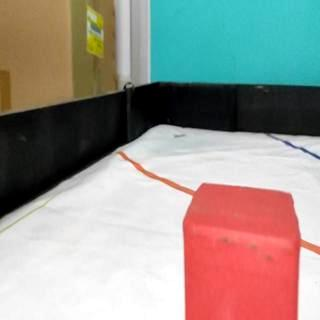redbox: (183, 181, 299, 320)
